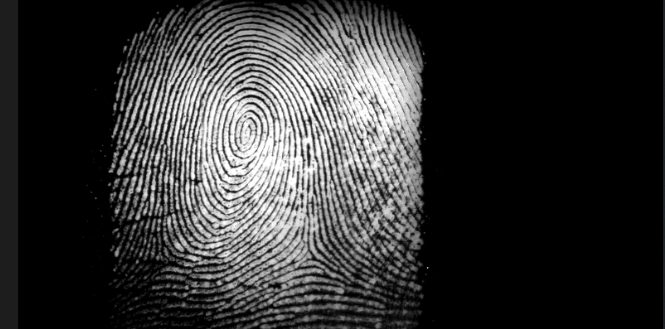nucelo: (234, 109, 257, 151)
verticilo: (293, 237, 325, 267), (148, 235, 175, 269)
